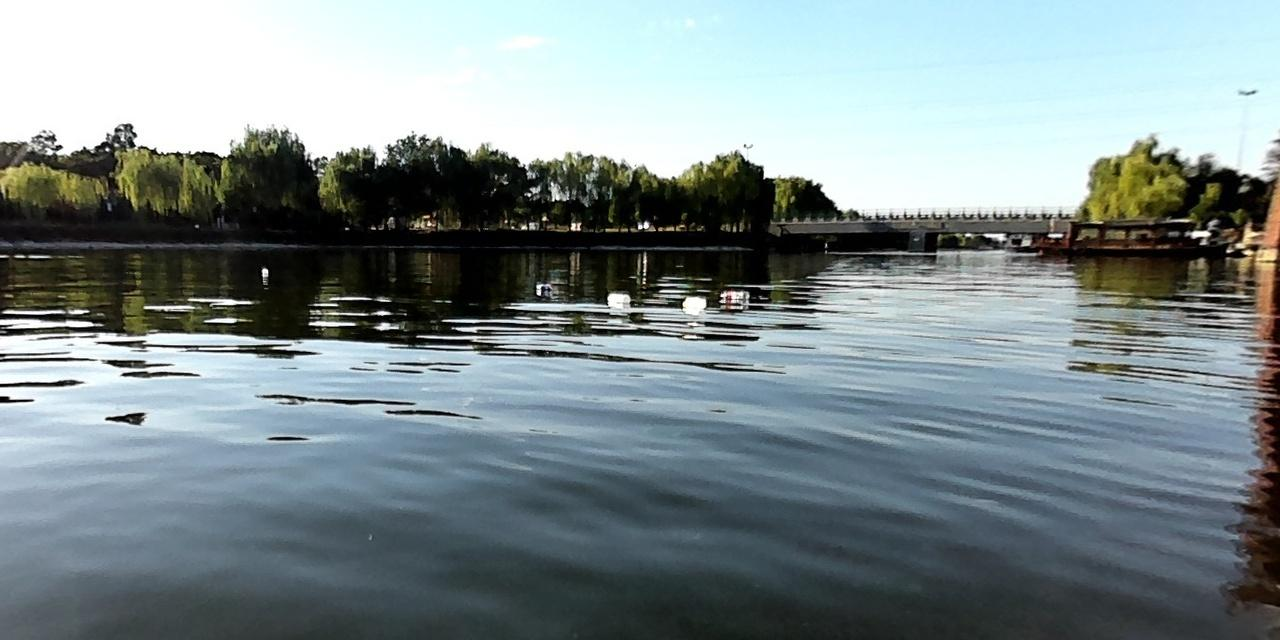bottle: (715, 287, 751, 303), (603, 289, 633, 304), (679, 293, 707, 308)
